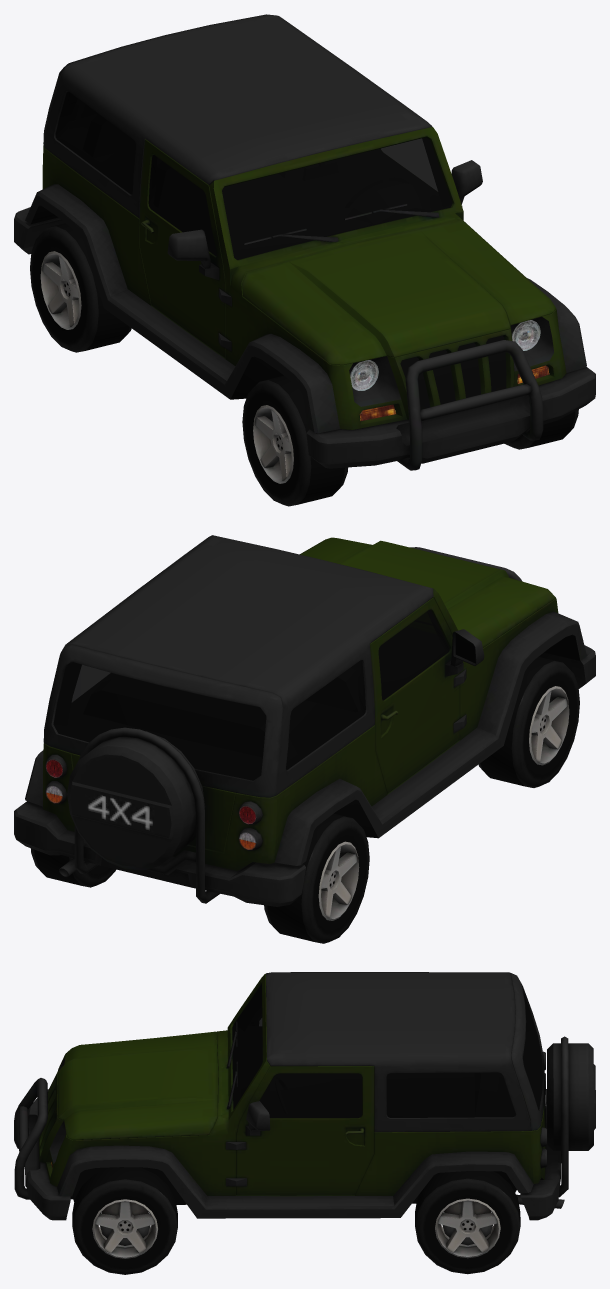
File: car_offroad.glb
The picture shows the model from 3 angles, top to bottom: view 1: azimuth 30°, elevation 25°; view 2: azimuth 150°, elevation 25°; view 3: azimuth 270°, elevation 25°; orthographic projection. The views are drawn at different scales.
Visible parts, largest first — view 1: Offroad Body_Body_0, Offroad Body_Glass_0, Wheel_G001_Wheel_0.001, Wheel_G002_Wheel_0, Offroad Body_Optics_0, Wheel_G_Wheel_0; view 2: Offroad Body_Body_0, Offroad Body_Glass_0, Wheel_G001_Wheel_0.001, Wheel_G002_Wheel_0, Wheel_G001_Wheel_0, Offroad Body_Optics_0; view 3: Offroad Body_Body_0, Offroad Body_Glass_0, Wheel_G_Wheel_0, Wheel_G001_Wheel_0.
Part boxes in pixels (left/top/right/bottom): Offroad Body_Body_0: left=14, top=14, right=595, bottom=470; Offroad Body_Glass_0: left=55, top=91, right=452, bottom=259; Wheel_G001_Wheel_0.001: left=242, top=375, right=348, bottom=506; Wheel_G002_Wheel_0: left=30, top=223, right=131, bottom=352; Offroad Body_Optics_0: left=350, top=320, right=549, bottom=420; Wheel_G_Wheel_0: left=504, top=409, right=578, bottom=449; Offroad Body_Body_0: left=14, top=535, right=595, bottom=906; Offroad Body_Glass_0: left=53, top=610, right=449, bottom=780; Wheel_G001_Wheel_0.001: left=478, top=656, right=579, bottom=787; Wheel_G002_Wheel_0: left=264, top=813, right=369, bottom=943; Wheel_G001_Wheel_0: left=30, top=848, right=116, bottom=887; Offroad Body_Optics_0: left=46, top=759, right=256, bottom=849; Offroad Body_Body_0: left=14, top=972, right=595, bottom=1220; Offroad Body_Glass_0: left=232, top=984, right=542, bottom=1118; Wheel_G_Wheel_0: left=72, top=1167, right=177, bottom=1274; Wheel_G001_Wheel_0: left=415, top=1171, right=520, bottom=1274.
Size of the model in its own units: 2.19 by 1.75 by 4.4.
4 materials, 3 textured.
